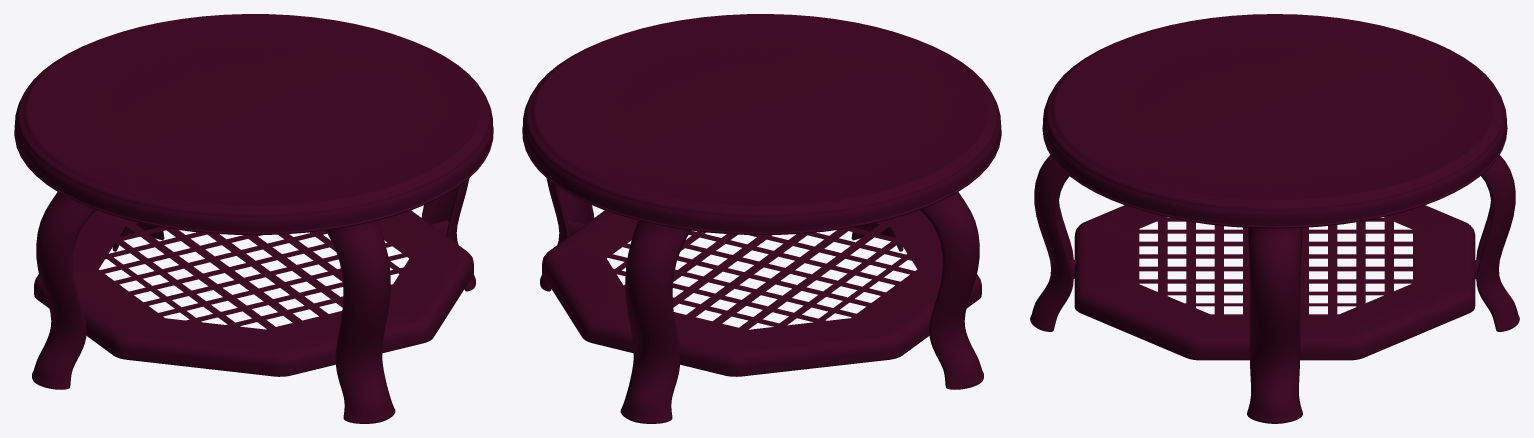
File: plastic_round_table.glb
3 views of the same model, side by side, from view 1: azimuth 30°, elevation 25°; view 2: azimuth 150°, elevation 25°; view 3: azimuth 270°, elevation 25° (orthographic). The views are drawn at different scales.
Visible parts, largest first — view 1: Object_2; view 2: Object_2; view 3: Object_2.
Part boxes in pixels (left/top/right/bottom): Object_2: left=14, top=14, right=493, bottom=423; Object_2: left=522, top=14, right=1001, bottom=423; Object_2: left=1030, top=14, right=1519, bottom=423.
Bounding box in the file's own units: 2.01 × 0.9703 × 2.01.
1 material, 1 textured.
